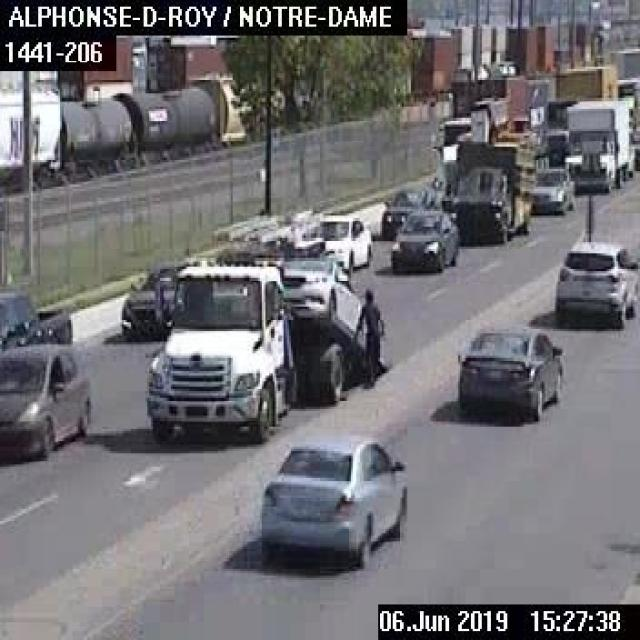pedestrian: (354, 286, 384, 386)
vehicle: (138, 260, 388, 442), (255, 427, 407, 569), (0, 336, 91, 464), (453, 318, 567, 420), (450, 131, 540, 247), (278, 258, 369, 349), (551, 235, 638, 329), (559, 93, 634, 192), (118, 251, 192, 338), (386, 204, 462, 276), (0, 285, 75, 351), (317, 212, 374, 273), (377, 183, 438, 239), (526, 162, 573, 218)
